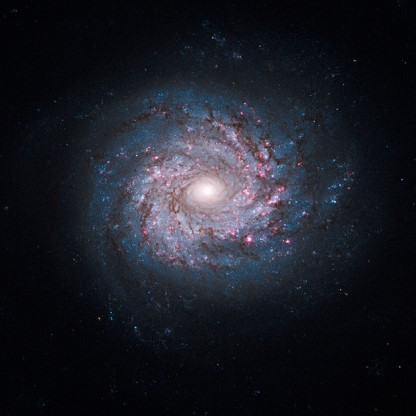NGC 3982: (61, 58, 366, 339)
